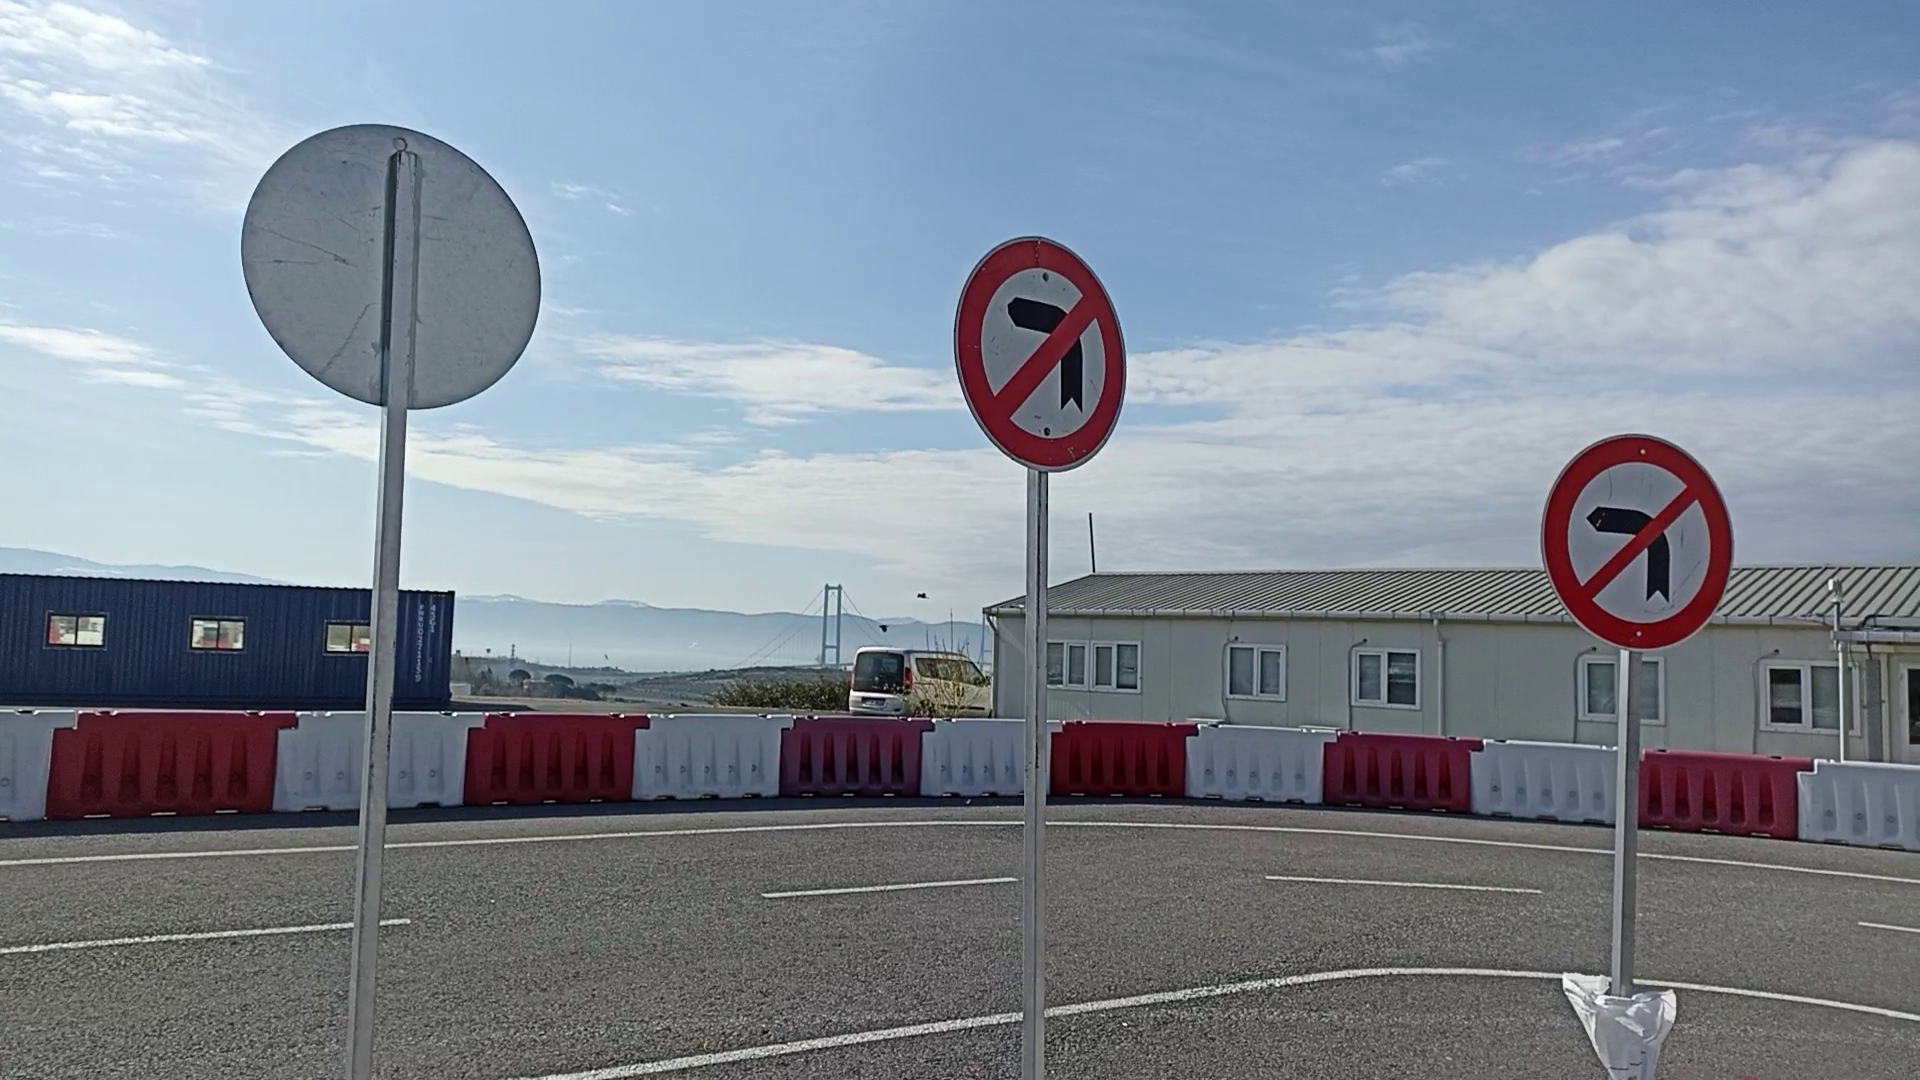noleft: (951, 231, 1131, 479), (1539, 433, 1735, 654)
